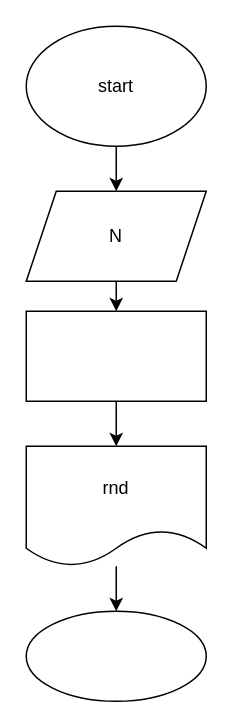
Some shapes in this 233 by 728 pixel diagram are drawn without their labels. Here are the shapes that lost their labels. From the top down, the box of each, then its label:
(25, 310, 206, 401): rnd - random(1,n) rnd = rnd 2
(25, 610, 206, 701): end
